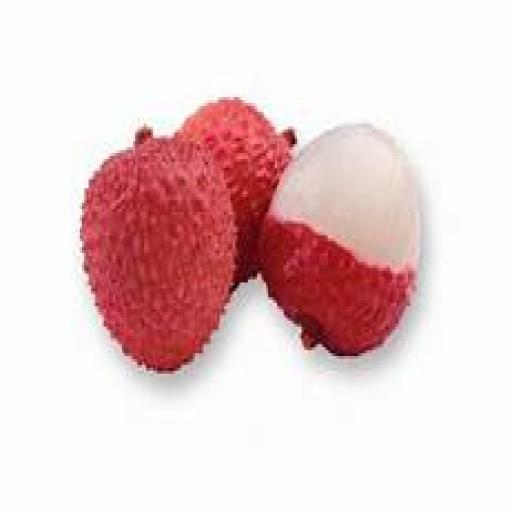lychee: (80, 130, 234, 370), (260, 124, 418, 356), (180, 98, 294, 285)
